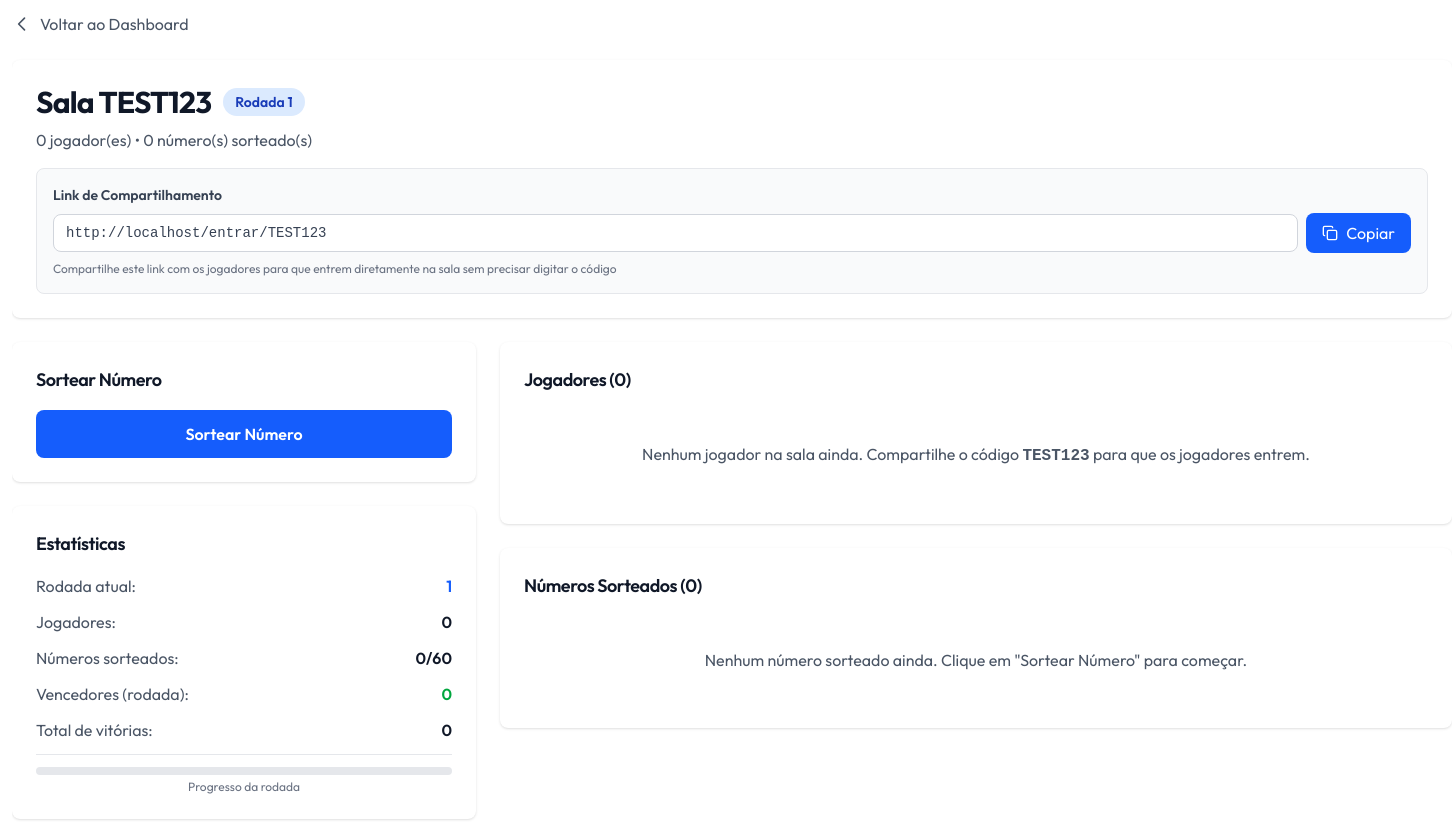
Scenario: AdminRoomPage › Number Drawing › should set error state when draw fails
The width and height of the screenshot is (1452, 822).
Click the button "Sortear Número" at (244, 434), box [36,410,452,458]
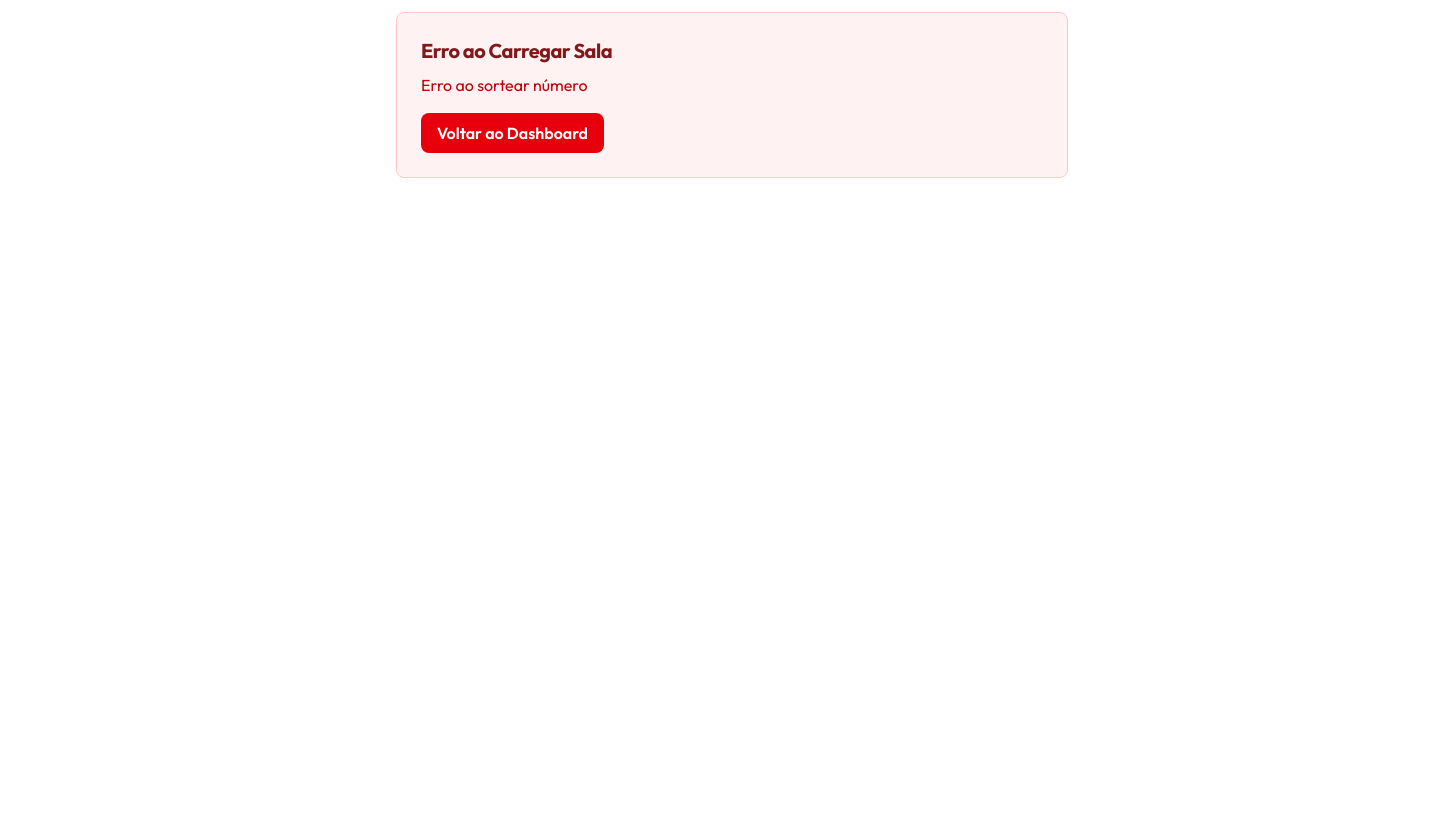
Expected: the text "Erro ao sortear número" is shown, [421,75,588,95]
